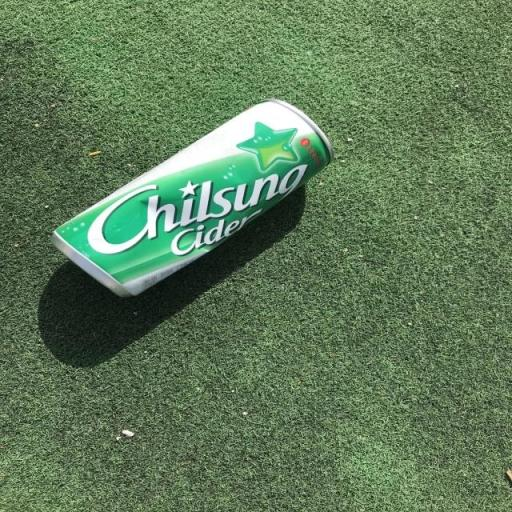metal: (30, 83, 348, 318)
